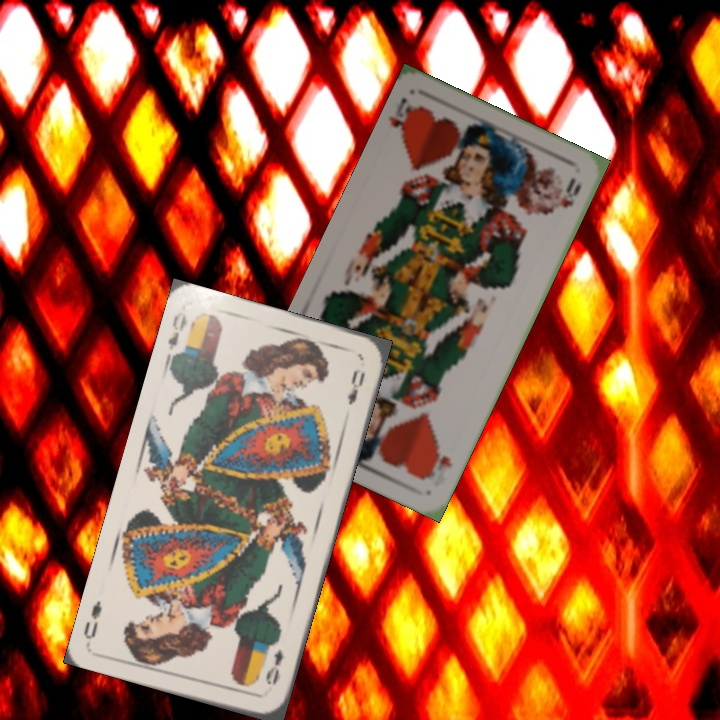EO: (162, 307, 196, 365), (261, 645, 286, 689)
HO: (385, 93, 422, 146), (420, 440, 455, 490)
